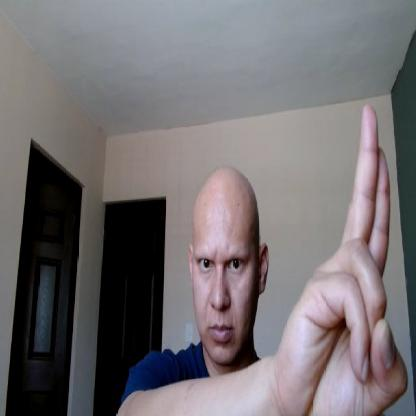U: (282, 102, 409, 416)
